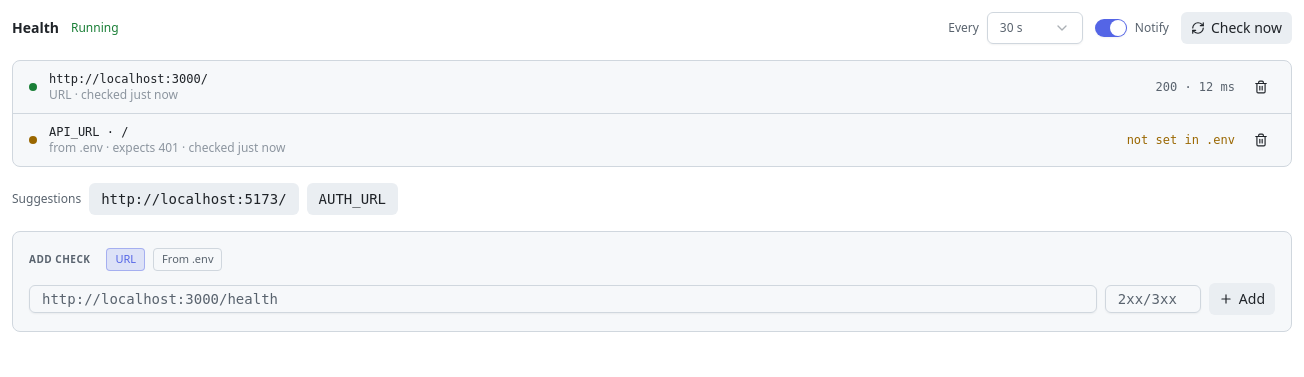
HealthPanel › refuses a URL that is not http(s) before sending it
Type "ftp://x" into the field named "URL" at (563, 298), box x1=29 y1=284 x2=1097 y2=312
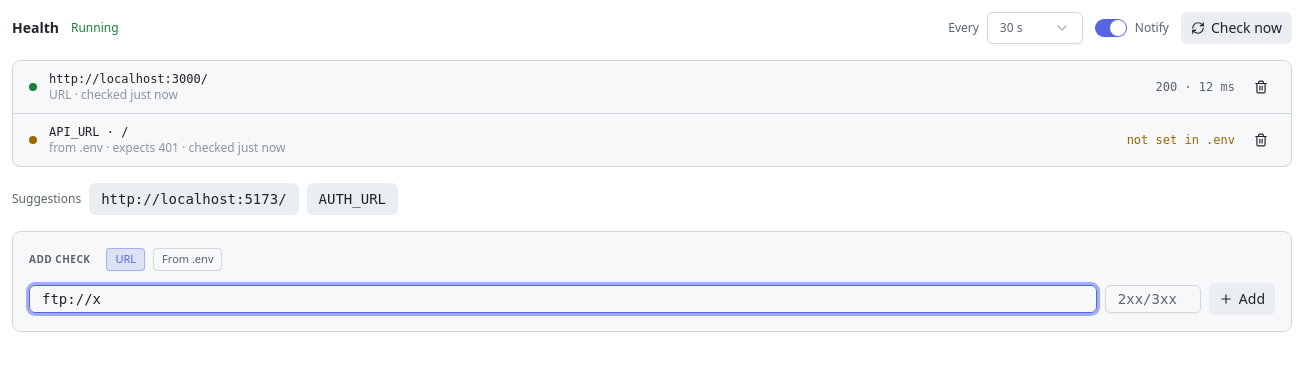
Click the button "Add" at (1242, 298), box x1=1209 y1=282 x2=1275 y2=314
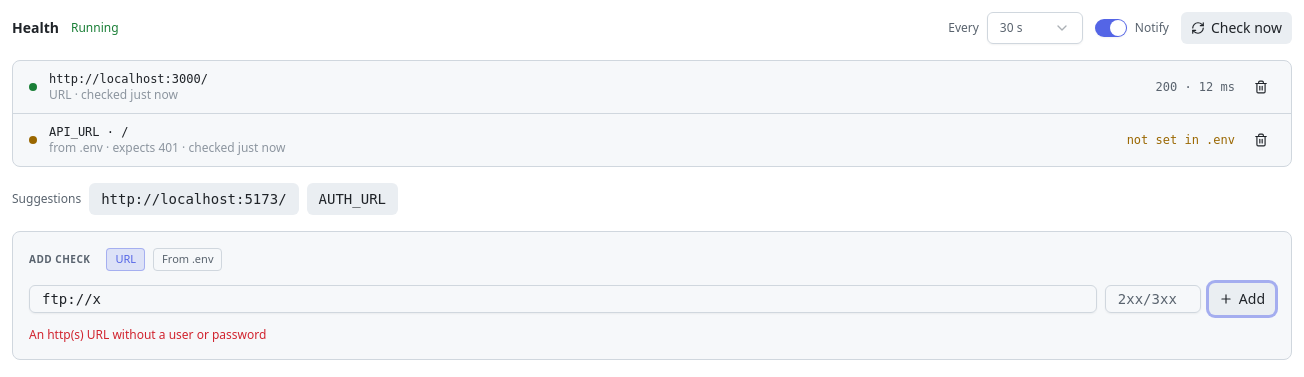
expect the text "An http(s) URL without a user or password" is shown: met, box x1=29 y1=326 x2=266 y2=342
